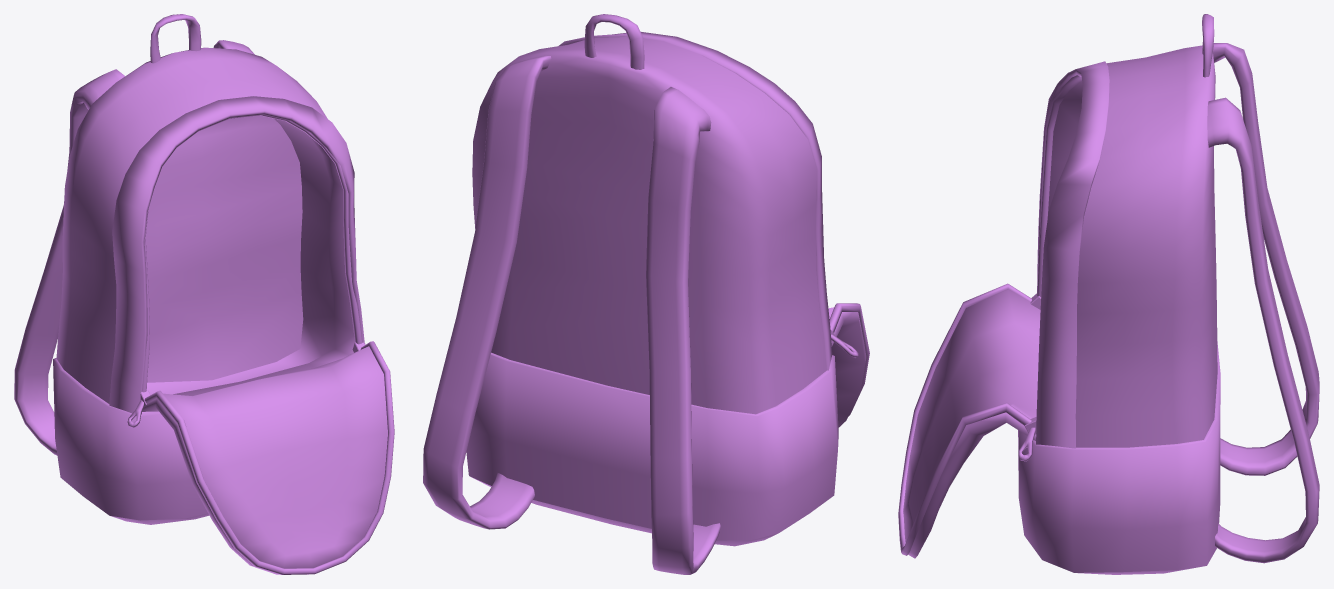
Rendered from M_Backpack.fbx.
The picture shows the model from 3 angles, left to right: view 1: azimuth 30°, elevation 25°; view 2: azimuth 150°, elevation 25°; view 3: azimuth 270°, elevation 25°; orthographic projection. The views are drawn at different scales.
Visible parts, largest first — view 1: Backpack_LP; view 2: Backpack_LP; view 3: Backpack_LP.
Part boxes in pixels (box(x1,y1,x2,y2)): Backpack_LP: box(14, 14, 394, 574); Backpack_LP: box(423, 14, 869, 574); Backpack_LP: box(898, 14, 1319, 574).
Size of the model in its own units: 274 by 446 by 325.
